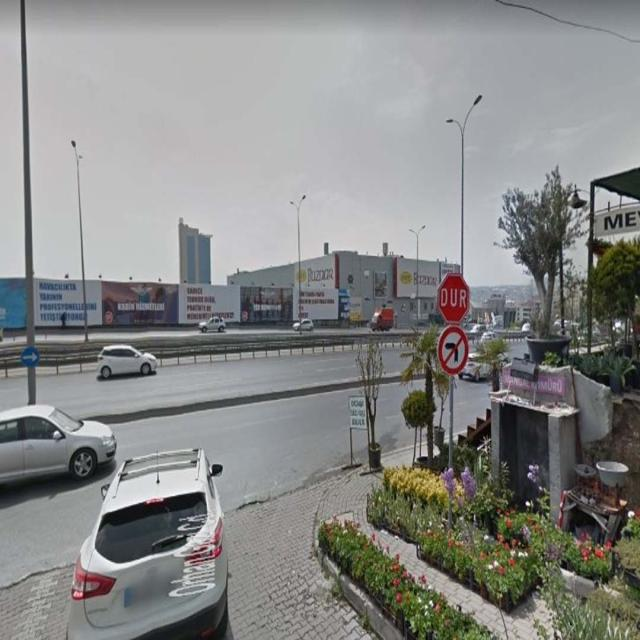dur: (438, 274, 470, 322)
sag: (22, 348, 38, 368)
soladonulmez: (438, 326, 468, 374)
